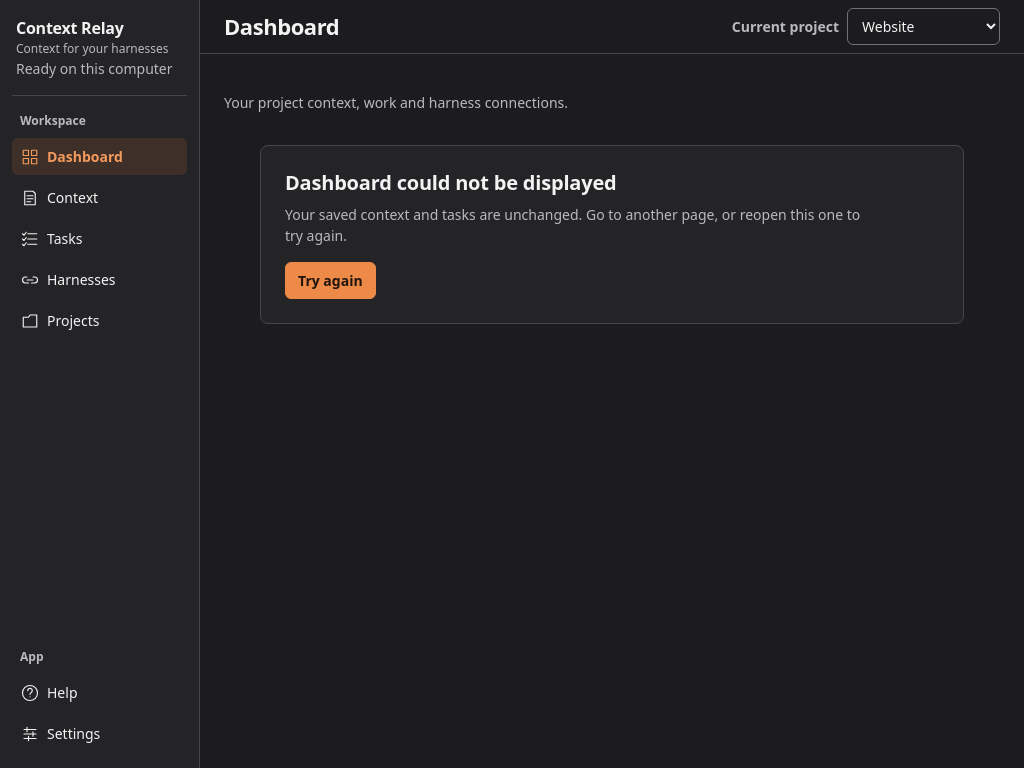
Test: opens a healthy page after the dashboard fails to render
Expected: the heading "Dashboard could not be displayed" is shown, left=285, top=169, right=616, bottom=196
Expected: the navigation bar "Workspace" is shown, left=12, top=112, right=187, bottom=752
Click the button "Projects": (100, 320) left=12, top=302, right=187, bottom=339
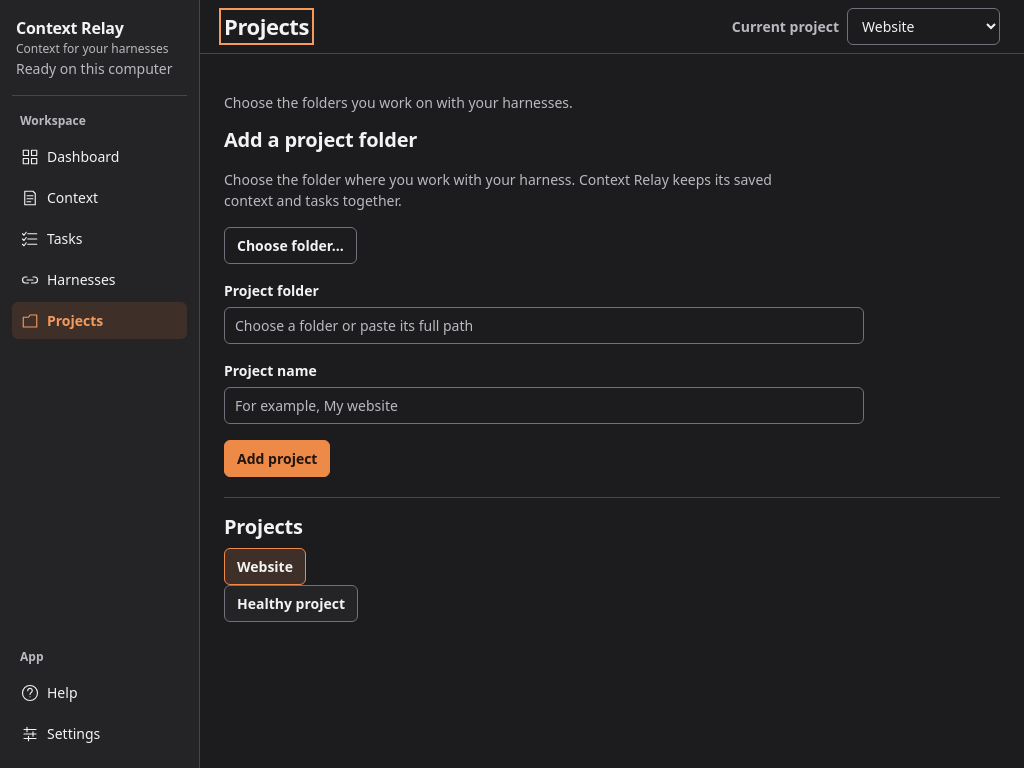
Expected: the field labelled "Project name" is shown, left=224, top=387, right=864, bottom=424
Expected: the heading "could not be displayed" is gone
